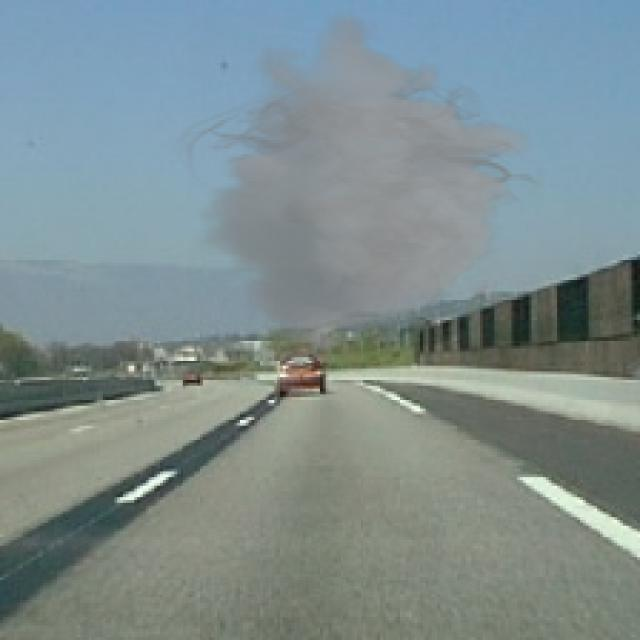smoke: (168, 12, 546, 354)
